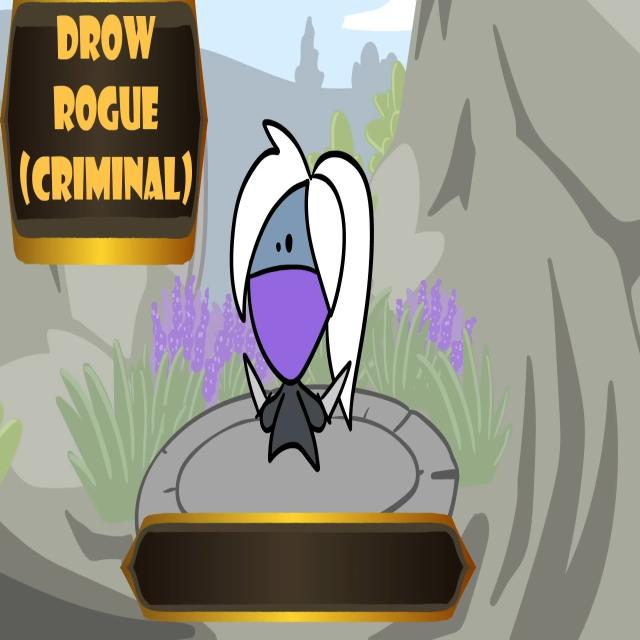miss Demeanor: (228, 112, 374, 475)
